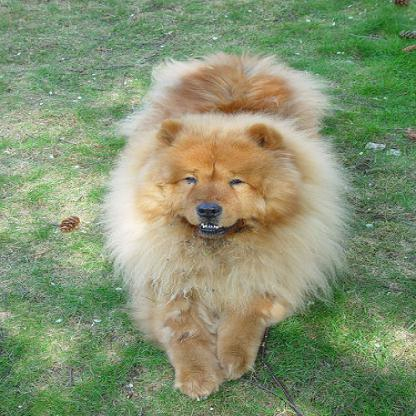dog: (103, 51, 346, 400)
